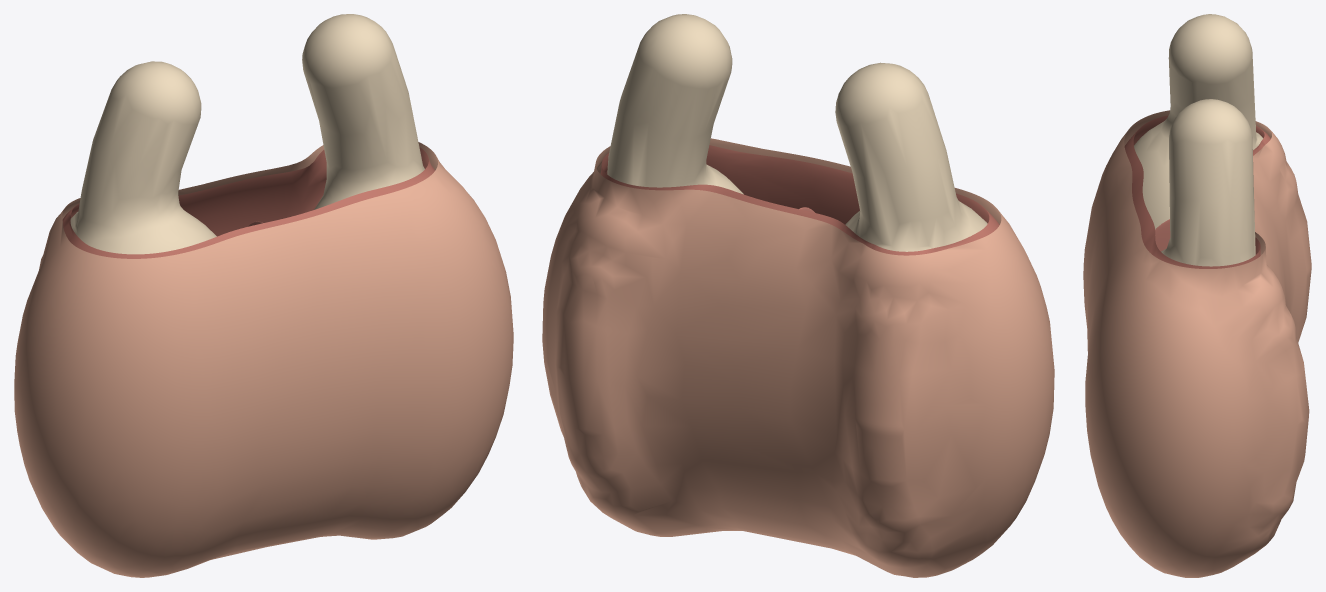
File: human.glb
3 renders of one model, left to right at view 1: azimuth 30°, elevation 25°; view 2: azimuth 150°, elevation 25°; view 3: azimuth 270°, elevation 25°, orthographic. The views are drawn at different scales.
Visible parts, largest first — view 1: skin__M, external_sf__R, external_sf__L, dartos__M; view 2: skin__M, external_sf__R, external_sf__L, dartos__M; view 3: skin__M, external_sf__L, external_sf__R, dartos__M, scrotal_septum__M.
Boxes of the visible parts, box(x1,y1,x2,y2) form: skin__M: box(14, 142, 513, 577); external_sf__R: box(70, 61, 216, 254); external_sf__L: box(302, 14, 424, 209); dartos__M: box(62, 147, 435, 258); skin__M: box(542, 138, 1054, 577); external_sf__R: box(835, 62, 987, 251); external_sf__L: box(607, 14, 743, 194); dartos__M: box(600, 145, 999, 255); skin__M: box(1083, 110, 1311, 577); external_sf__L: box(1161, 99, 1255, 266); external_sf__R: box(1134, 14, 1263, 229); dartos__M: box(1124, 115, 1270, 268); scrotal_septum__M: box(1155, 219, 1170, 251).
Size of the model in its own units: 0.0854 by 0.0881 by 0.0398.
